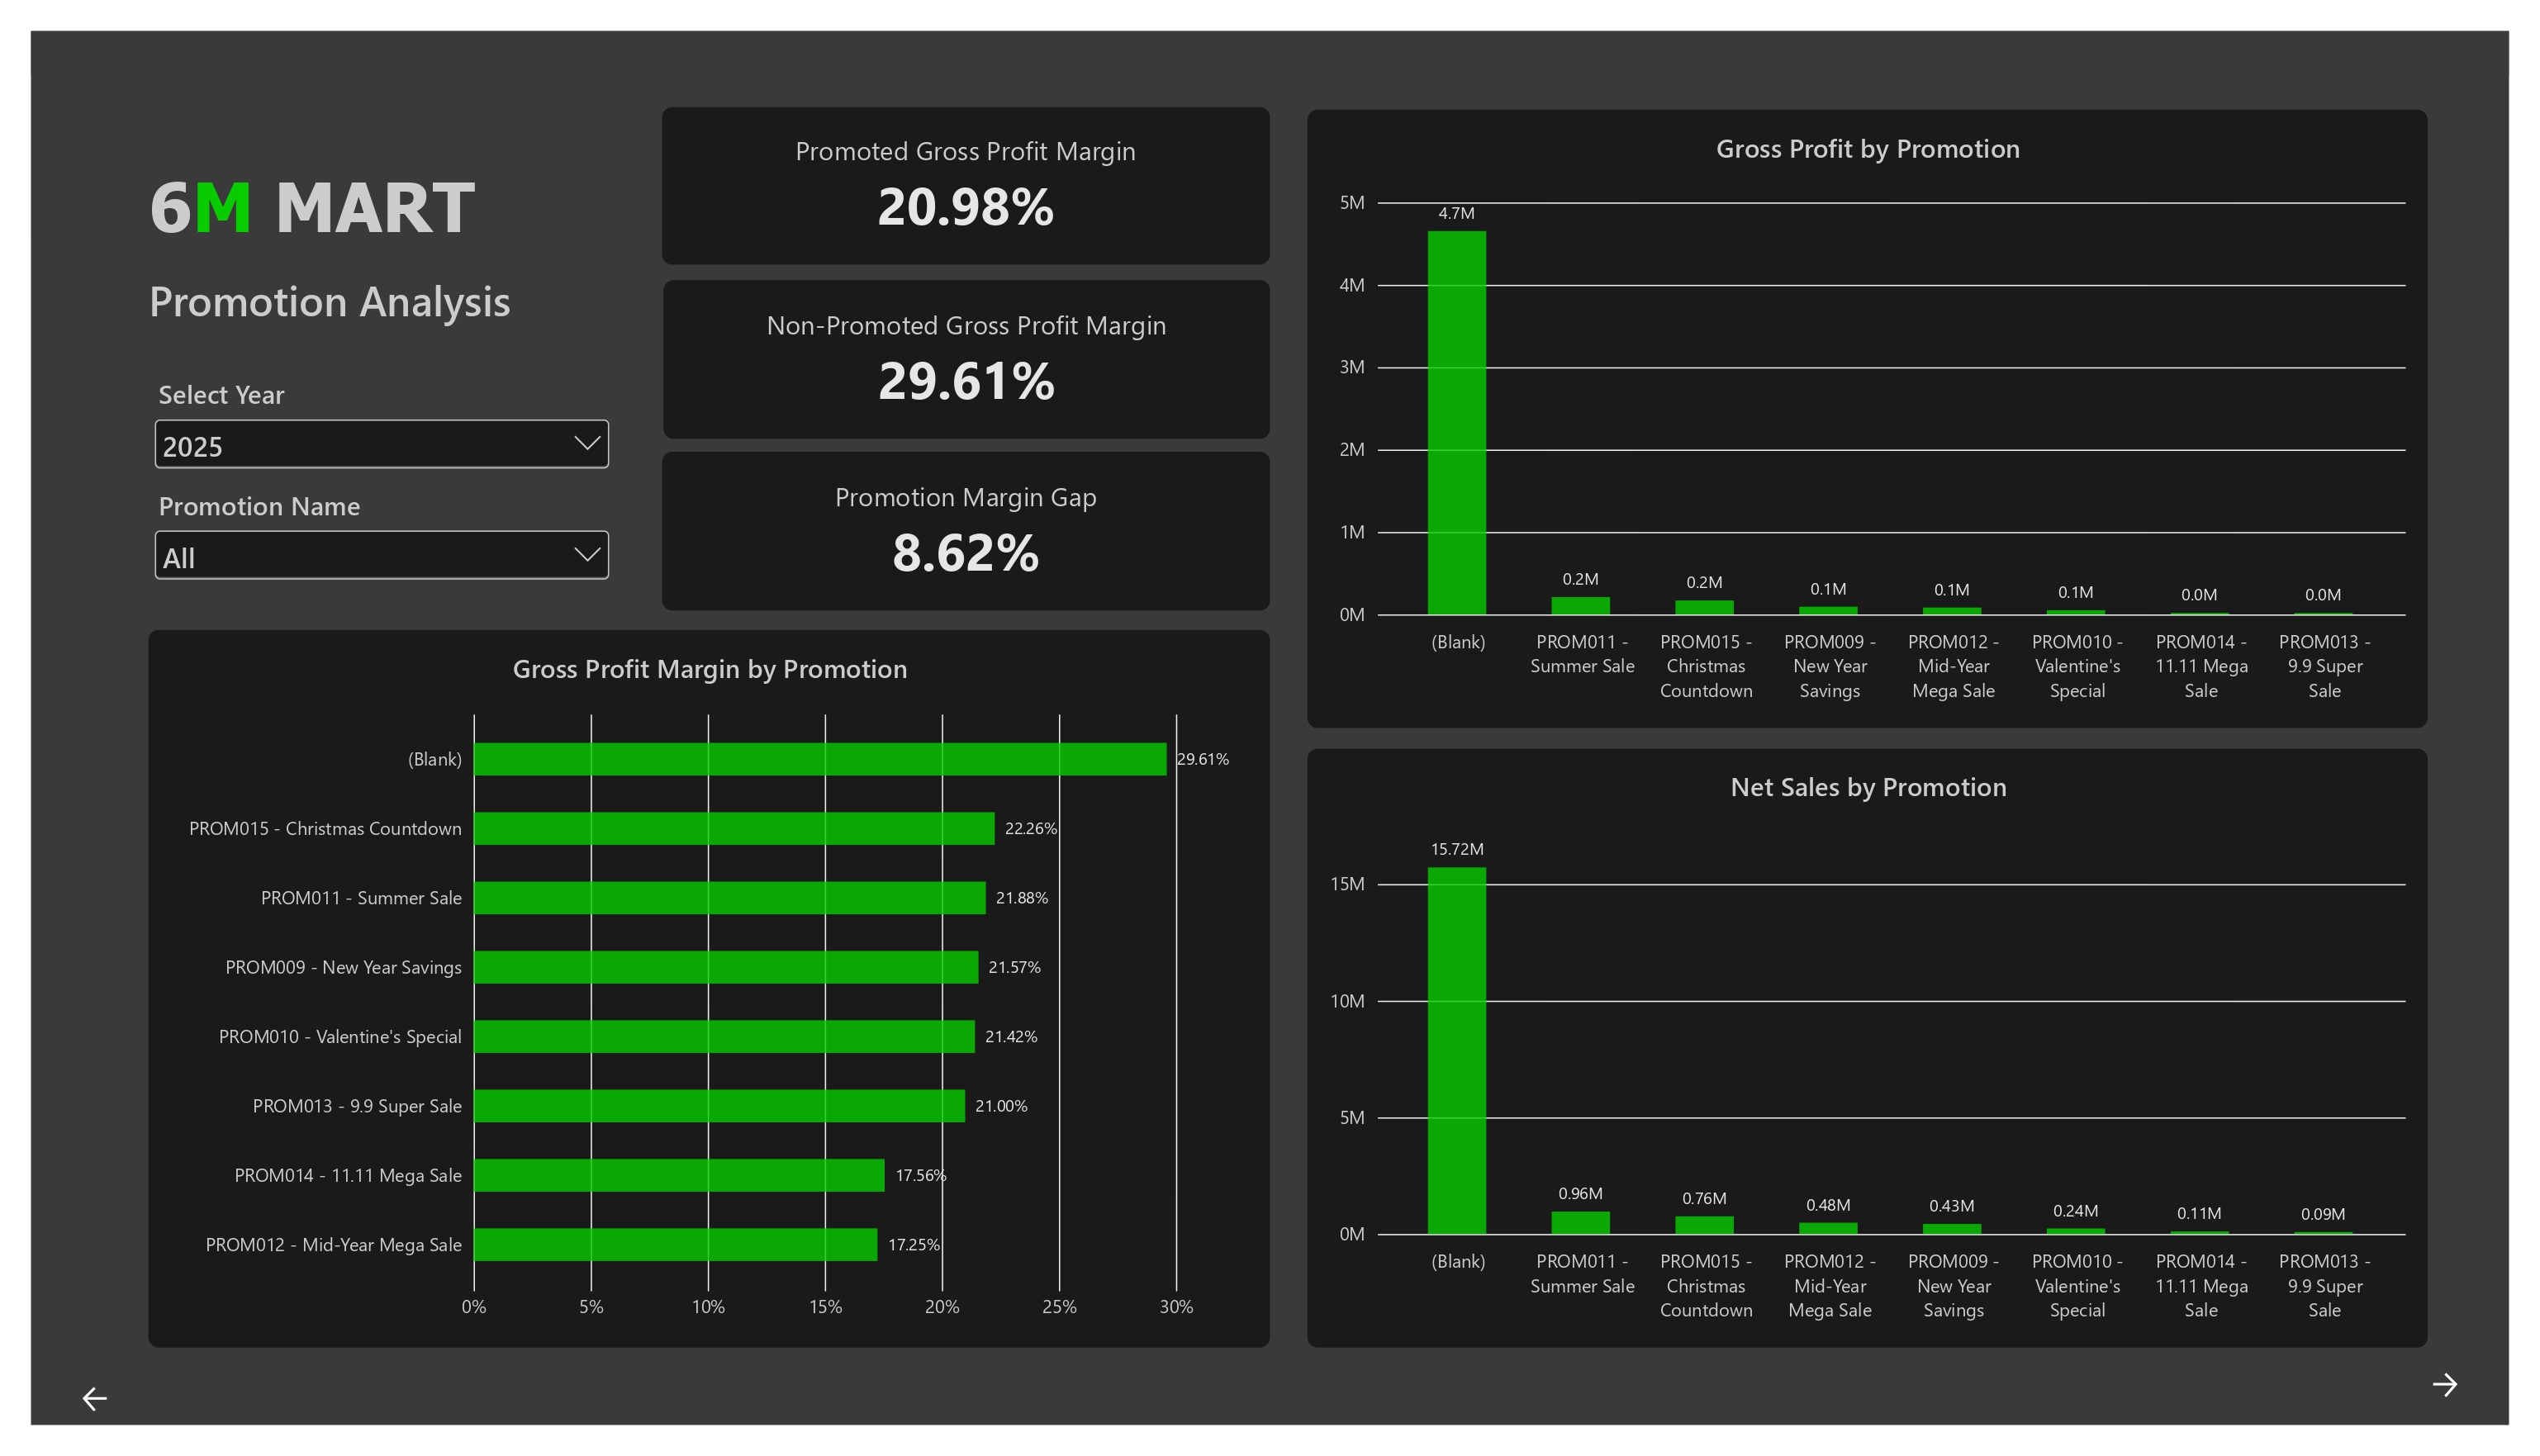

The page's visual inventory and layout, read from the dashboard file:
{"tool":"powerbi","page":{"name":"Promotion Analysis","canvas":[1920,1080],"ordinal":3},"visuals":[{"type":"textbox","box":[91.4,102.9,397.1,157.1],"z":0},{"type":"cardVisual","fields":{"Data":["_Measures.Promoted Gross Profit Margin"]},"box":[488.6,58.6,471.4,122.9],"z":1000},{"type":"cardVisual","fields":{"Data":["_Measures.Promotion Margin Gap"]},"box":[488.6,325.7,471.4,122.9],"z":2000},{"type":"cardVisual","fields":{"Data":["_Measures.Non-Promoted Gross Profit Margin"]},"box":[490,192.9,470,122.9],"z":3000},{"type":"slicer","fields":{"Values":["public dim_date.year"]},"box":[91.4,267.1,361.4,95.7],"z":4000},{"type":"columnChart","title":"Net Sales by Promotion","fields":{"Category":["public dim_promotions.Promotion Label"],"Y":["_Measures.Net Sales"]},"box":[988.6,555.7,868.6,464.3],"z":5000},{"type":"columnChart","title":"Gross Profit by Promotion","fields":{"Category":["public dim_promotions.Promotion Label"],"Y":["_Measures.Gross Profit"]},"box":[988.6,61.4,868.6,478.6],"z":6000},{"type":"clusteredBarChart","title":"Gross Profit Margin by Promotion","fields":{"Category":["public dim_promotions.Promotion Label"],"Y":["_Measures.Gross Profit Margin"]},"box":[91.4,464.3,868.6,555.7],"z":7000},{"type":"actionButton","box":[1820,1028.6,100,40],"z":7001},{"type":"actionButton","box":[0,1040,100,40],"z":7002},{"type":"slicer","fields":{"Values":["public dim_promotions.promotion_name"]},"box":[91.4,352.9,361.4,95.7],"z":7003}]}

Visuals, with their boxes on the page's 1920x1080 design canvas (x1, y1, x2, y2). These are canvas units, not pixel positions in the 2540x1456 screenshot, which may show the page scaled, cropped or inside an application window:
textbox: [x1=91, y1=103, x2=488, y2=260]
cardVisual - _Measures.Promoted Gross Profit Margin: [x1=489, y1=59, x2=960, y2=182]
cardVisual - _Measures.Promotion Margin Gap: [x1=489, y1=326, x2=960, y2=449]
cardVisual - _Measures.Non-Promoted Gross Profit Margin: [x1=490, y1=193, x2=960, y2=316]
slicer - public dim_date.year: [x1=91, y1=267, x2=453, y2=363]
"Net Sales by Promotion" columnChart: [x1=989, y1=556, x2=1857, y2=1020]
"Gross Profit by Promotion" columnChart: [x1=989, y1=61, x2=1857, y2=540]
"Gross Profit Margin by Promotion" clusteredBarChart: [x1=91, y1=464, x2=960, y2=1020]
actionButton: [x1=1820, y1=1029, x2=1920, y2=1069]
actionButton: [x1=0, y1=1040, x2=100, y2=1080]
slicer - public dim_promotions.promotion_name: [x1=91, y1=353, x2=453, y2=449]
